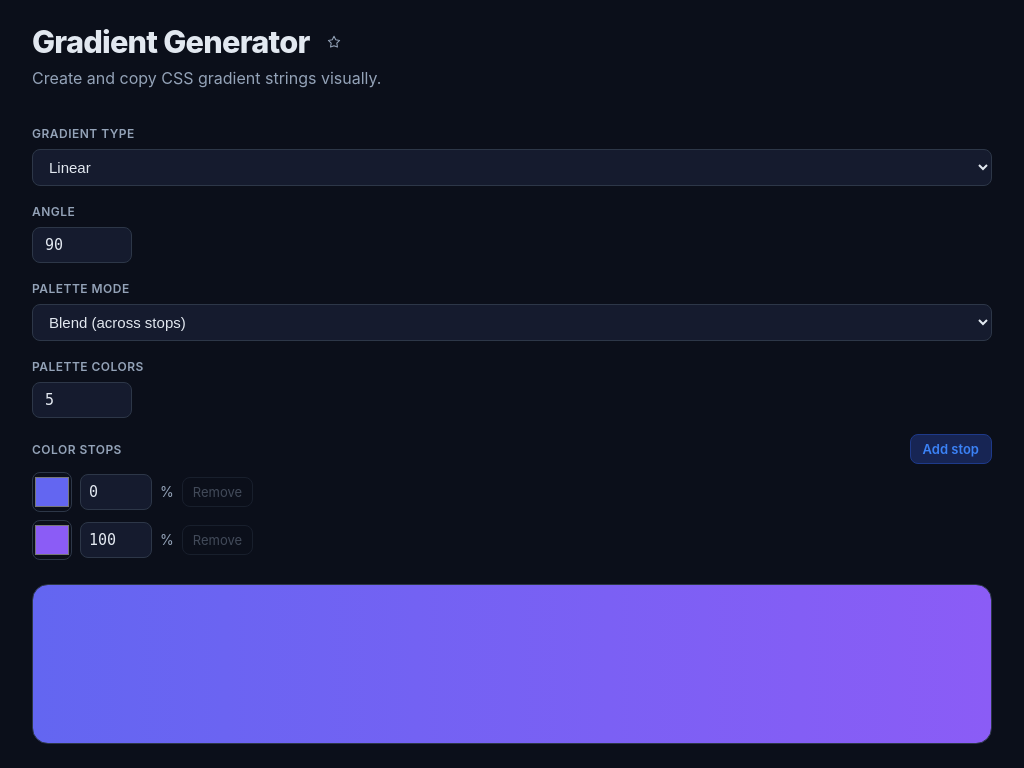
Test: GradientGenerator › changing gradient type to "radial" updates the CSS output to contain "radial-gradient"
Select "Radial" in the dropdown named "Gradient type" at (512, 167), box [32,149,992,186]
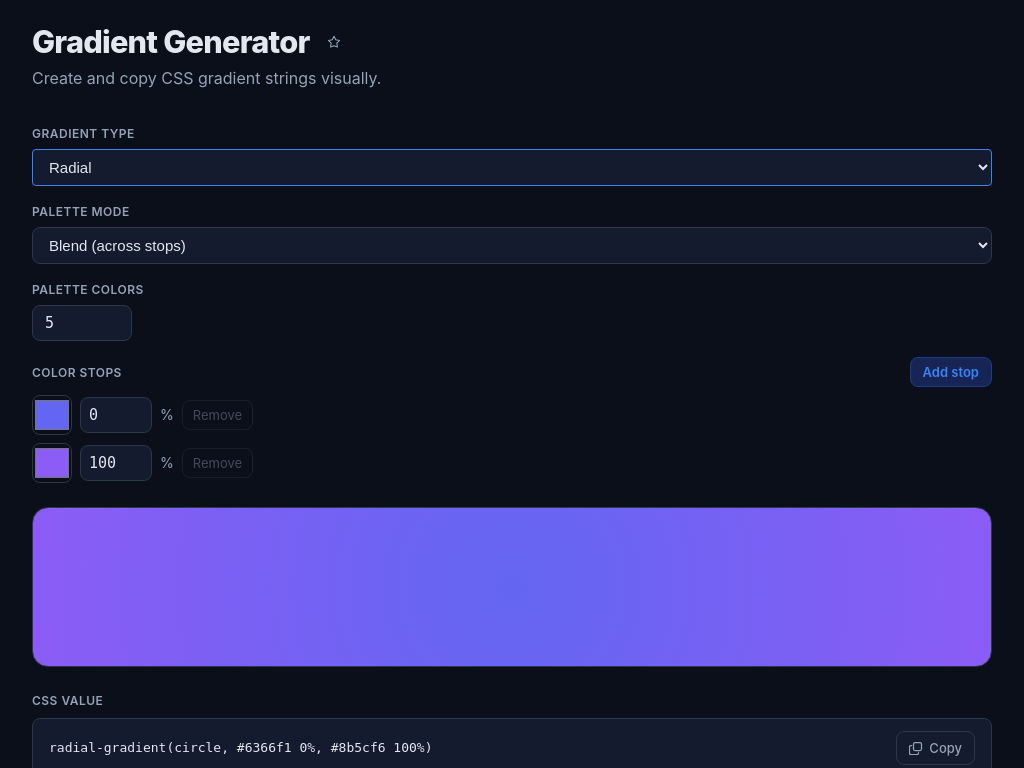
Expected: the text "radial-gradient(circle, #6366f1 0%, #8b5cf6 100%)" is shown, [49,740,432,755]
